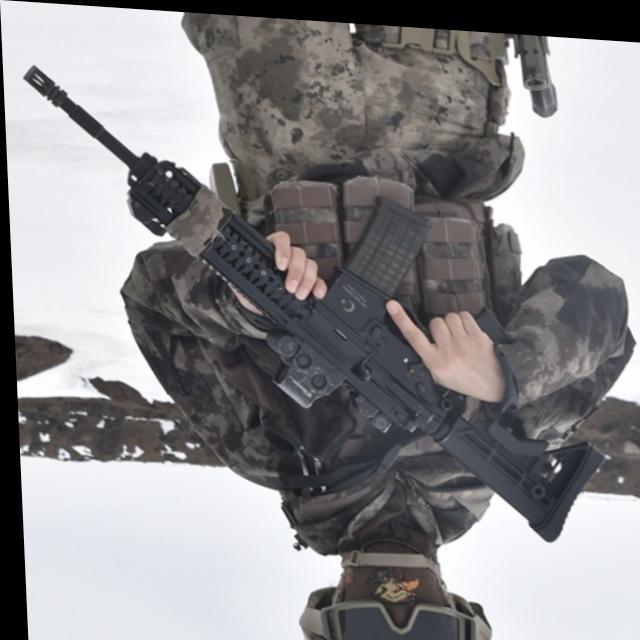poh_personel: (107, 6, 640, 640)
